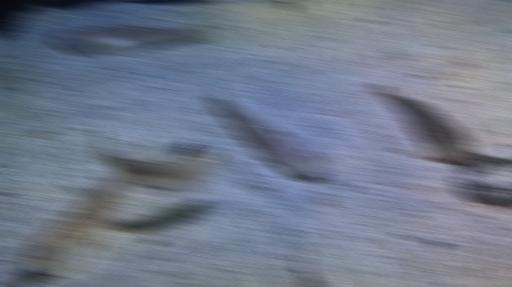Fish: (25, 173, 130, 275), (95, 126, 224, 206), (213, 90, 330, 178), (374, 85, 475, 163), (52, 24, 211, 56), (299, 260, 314, 286), (174, 141, 197, 156)
